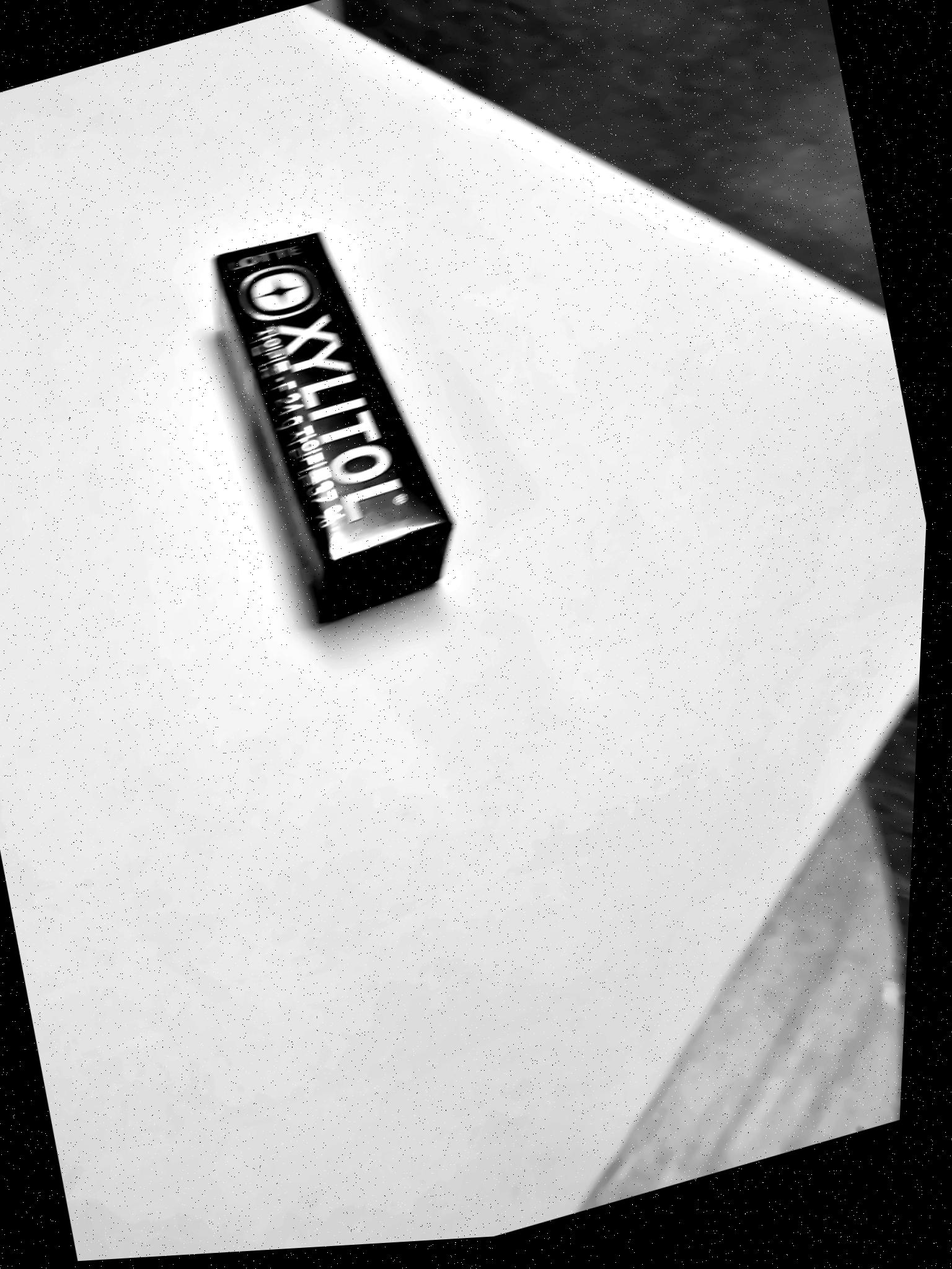gum_green: (214, 234, 452, 621)
